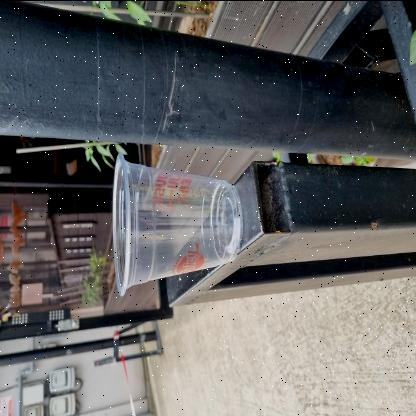Others: (108, 144, 247, 302)
